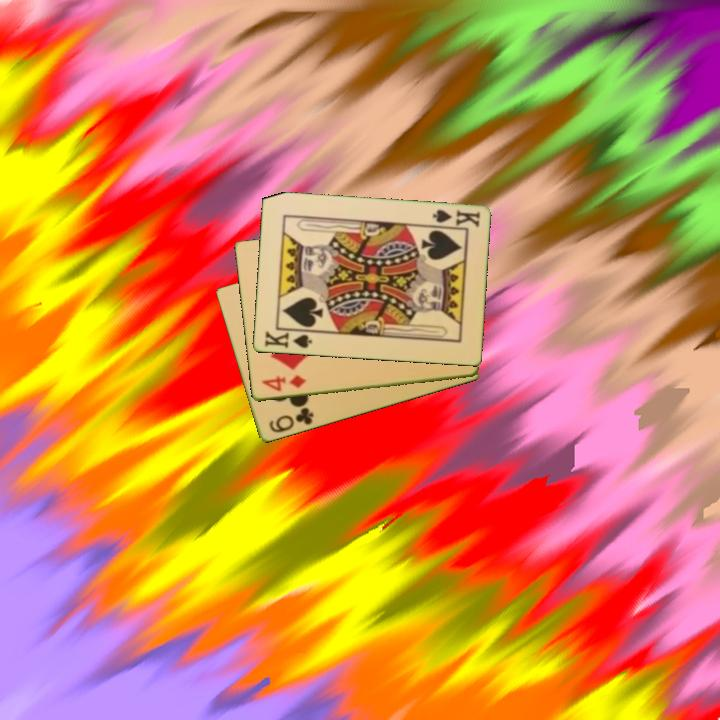4d: (258, 371, 309, 395)
6c: (265, 404, 316, 436)
Ks: (429, 206, 483, 231), (261, 327, 316, 351)
